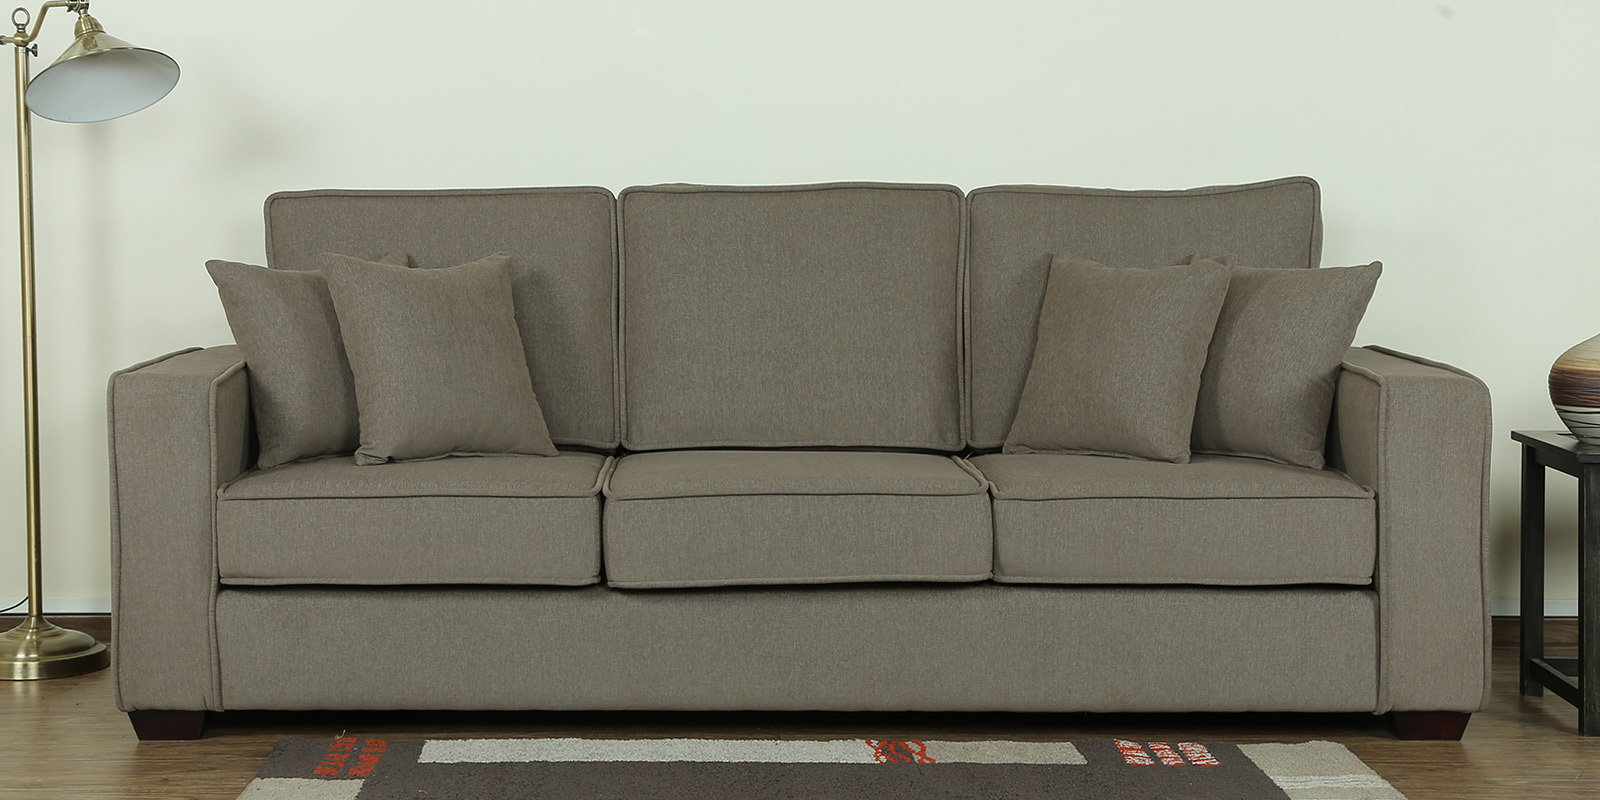Hugo Three Seater Sofa in Sandy Brown Colour by CasaCraft: (77, 161, 1524, 753)
